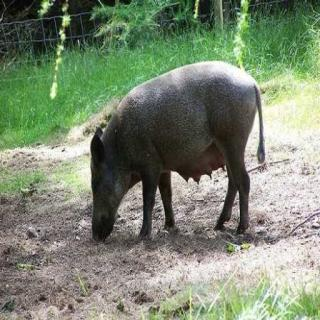Pig: (77, 43, 299, 254)
